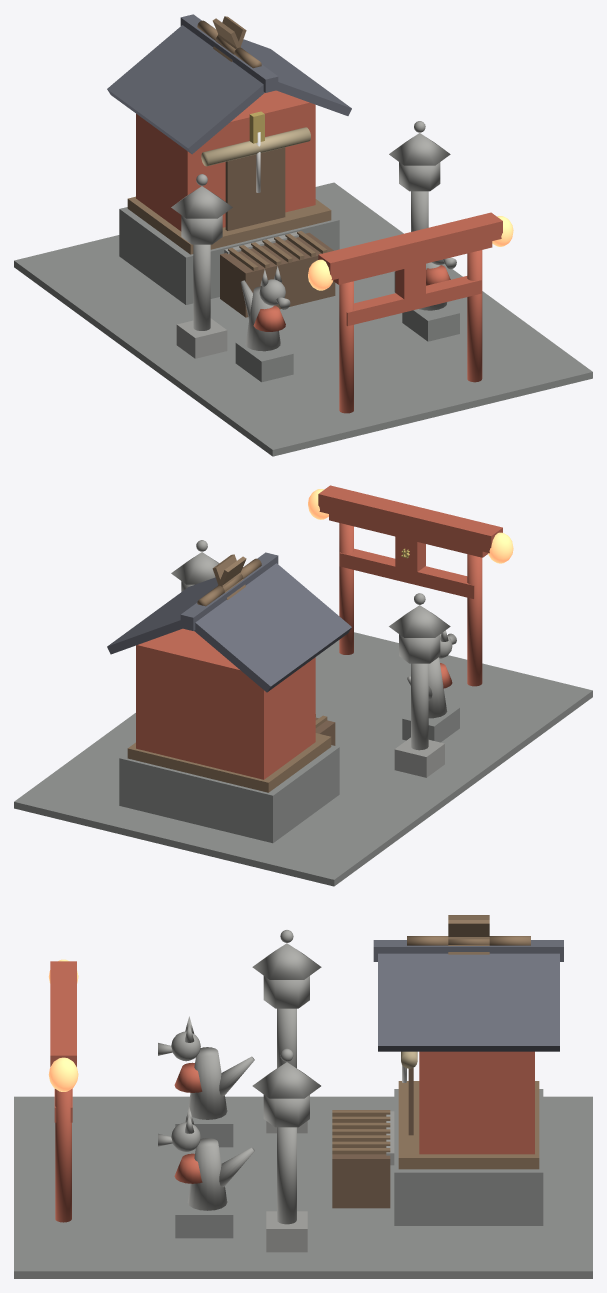
File: prop_jinja_hokora.glb
3 renders of one model, top to bottom at view 1: azimuth 30°, elevation 25°; view 2: azimuth 150°, elevation 25°; view 3: azimuth 270°, elevation 25°, orthographic. The views are drawn at different scales.
Parts seen in each view (by area): view 1: jinja_hokora; view 2: jinja_hokora; view 3: jinja_hokora.
Boxes of the visible parts, bbox=[...] form: jinja_hokora: bbox=[14, 14, 592, 456]; jinja_hokora: bbox=[14, 485, 592, 886]; jinja_hokora: bbox=[14, 915, 592, 1278].
Size of the model in its own units: 5 by 3.65 by 7.
